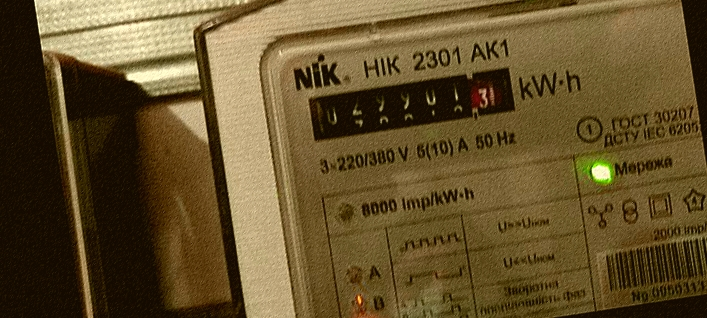0: (420, 81, 438, 108), (321, 102, 339, 126)
1: (446, 78, 462, 103)
2: (346, 93, 364, 117)
3: (473, 85, 491, 110)
9: (396, 87, 412, 112), (371, 90, 386, 113)
screen: (297, 58, 525, 152)
